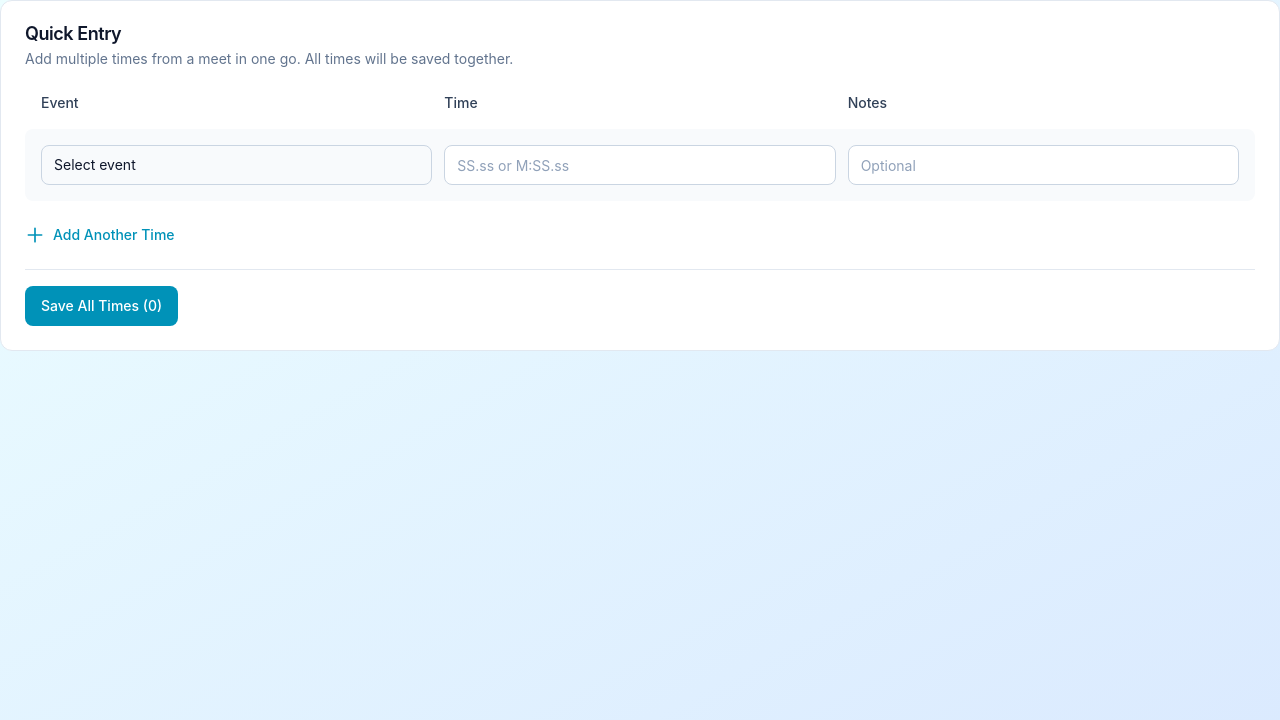
Test: QuickEntryForm › shows PB notification after successful batch submit
Step 1. Select "200m Freestyle" in the dropdown → (237, 165), box 41,145 -> 432,185
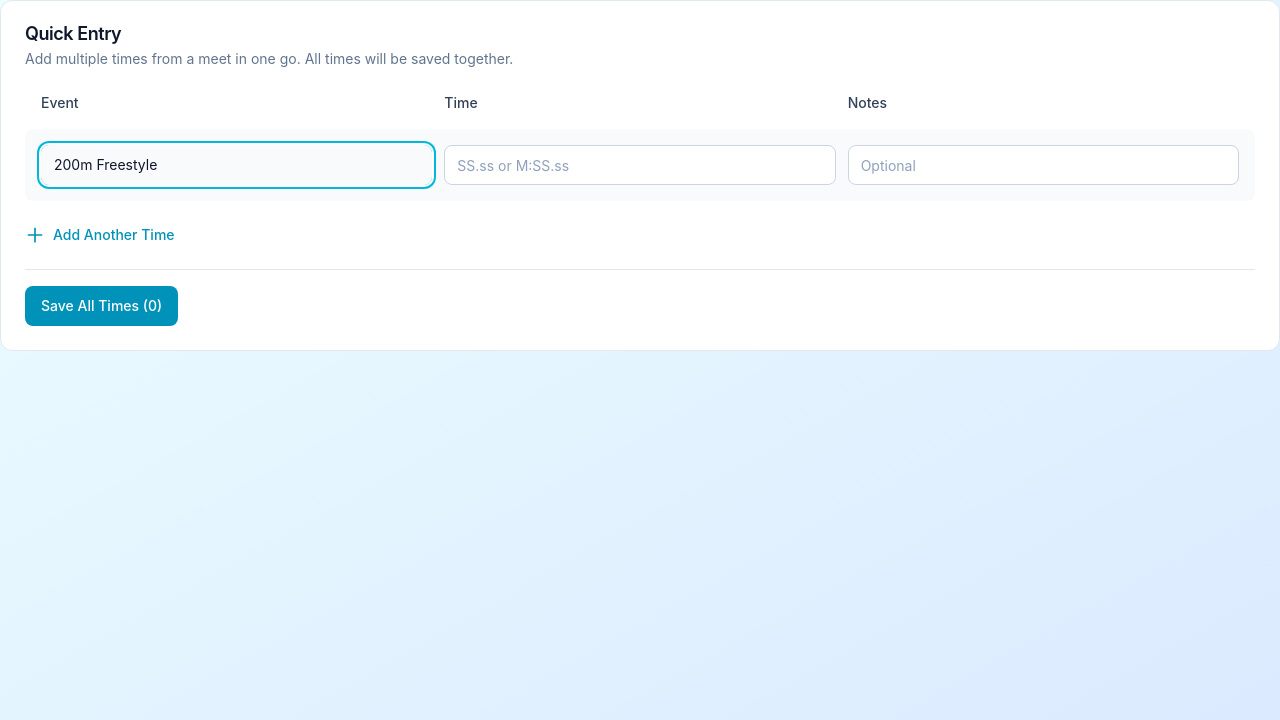
Step 2. Type "2:15.50" into the field with placeholder "SS.ss or M:SS.ss" → (640, 165), box 444,145 -> 836,185
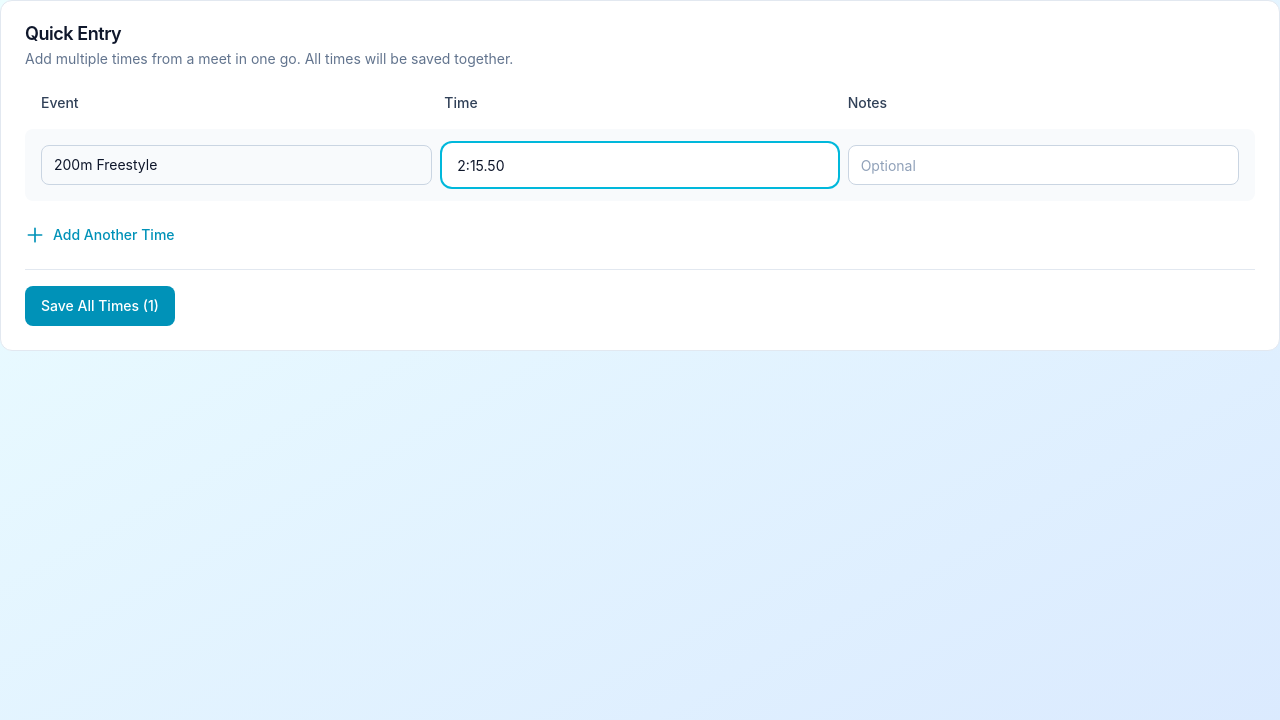
Step 3. Click the button "Save All Times (1)" → (100, 306), box 25,286 -> 175,326
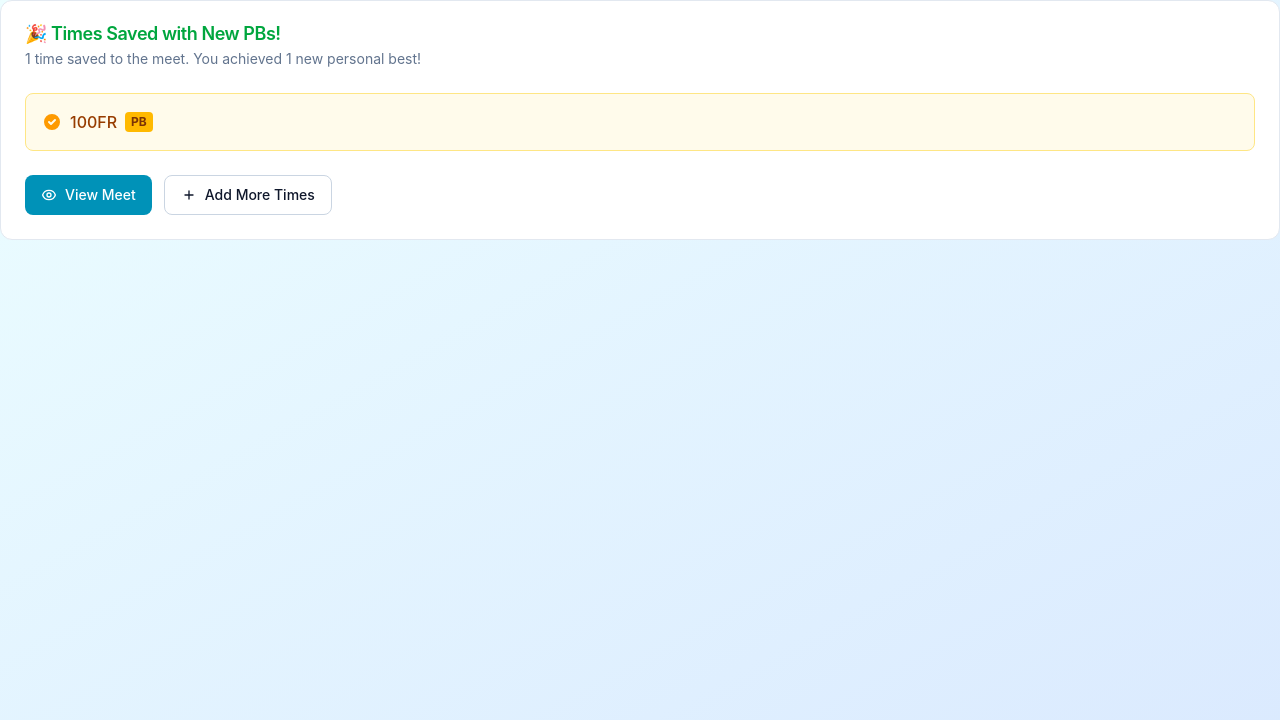
Check: the heading "🎉 Times Saved with New PBs!" is shown, box 25,23 -> 281,44
Check: the button "View Meet" is shown, box 25,175 -> 152,215
Check: the button "Add More Times" is shown, box 164,175 -> 332,215
